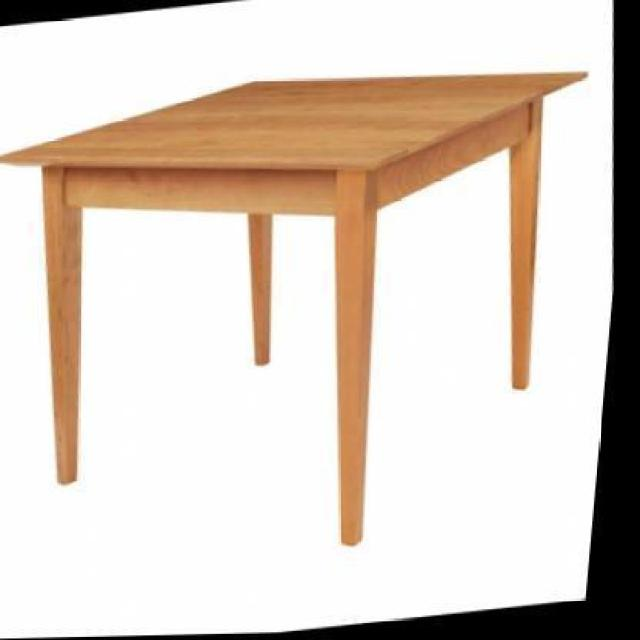tables: (0, 68, 588, 544)
